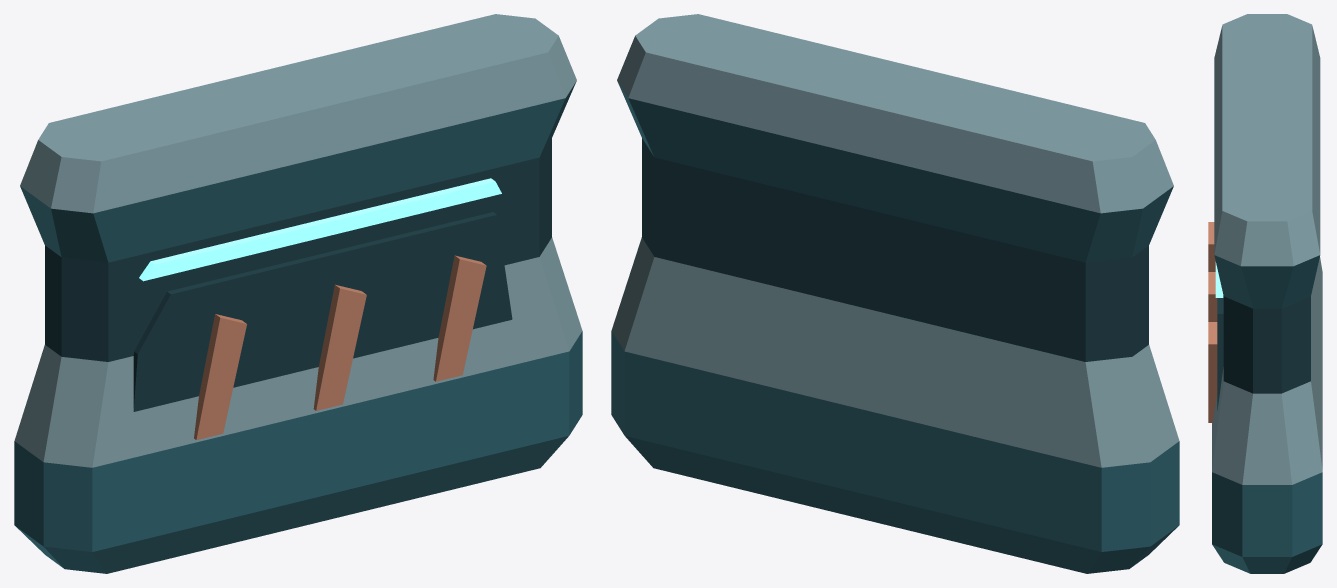
The model's file is absorber-armor.glb.
3 views of the same model, side by side, from view 1: azimuth 30°, elevation 25°; view 2: azimuth 150°, elevation 25°; view 3: azimuth 270°, elevation 25° (orthographic). The views are drawn at different scales.
Visible parts, largest first — view 1: absorber-armor; view 2: absorber-armor; view 3: absorber-armor.
Boxes of the visible parts, x1=… form: absorber-armor: x1=14, y1=14, x2=582, y2=573; absorber-armor: x1=611, y1=14, x2=1179, y2=573; absorber-armor: x1=1208, y1=14, x2=1322, y2=573.
Bounding box in the file's own units: 1.31 × 0.96 × 0.281.
